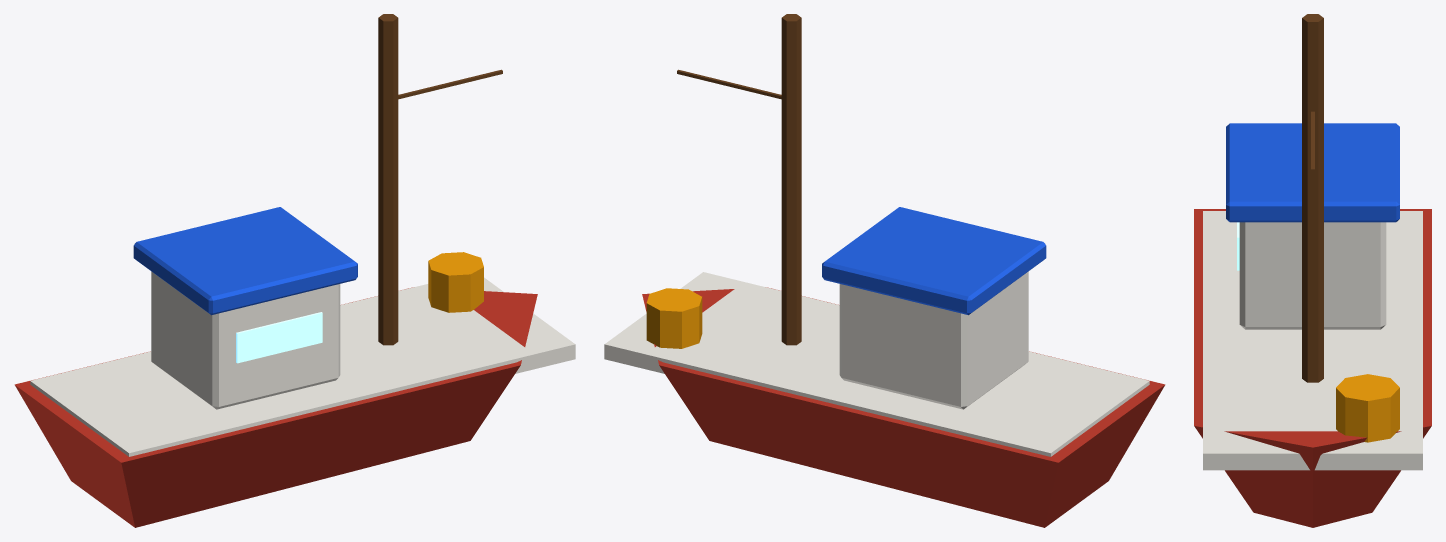
The model's file is fe-boat-aodlmy4r.glb.
3 renders of one model, left to right at view 1: azimuth 30°, elevation 25°; view 2: azimuth 150°, elevation 25°; view 3: azimuth 270°, elevation 25°, orthographic. The views are drawn at different scales.
Parts seen in each view (by area): view 1: hull; view 2: hull; view 3: hull.
Boxes of the visible parts, x1,y1,x2,y2 form: hull: [14, 14, 575, 527]; hull: [604, 14, 1165, 527]; hull: [1194, 14, 1431, 527].
Size of the model in its own units: 0.66 by 0.56 by 0.26.
